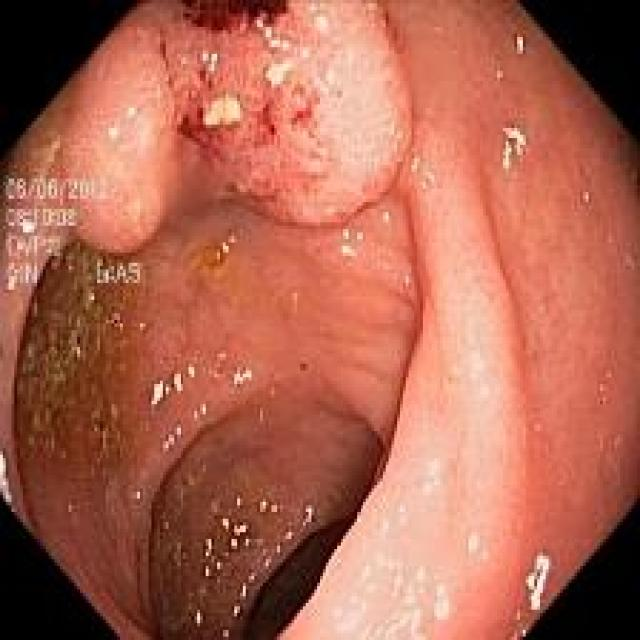Polyps: (56, 1, 414, 254)
